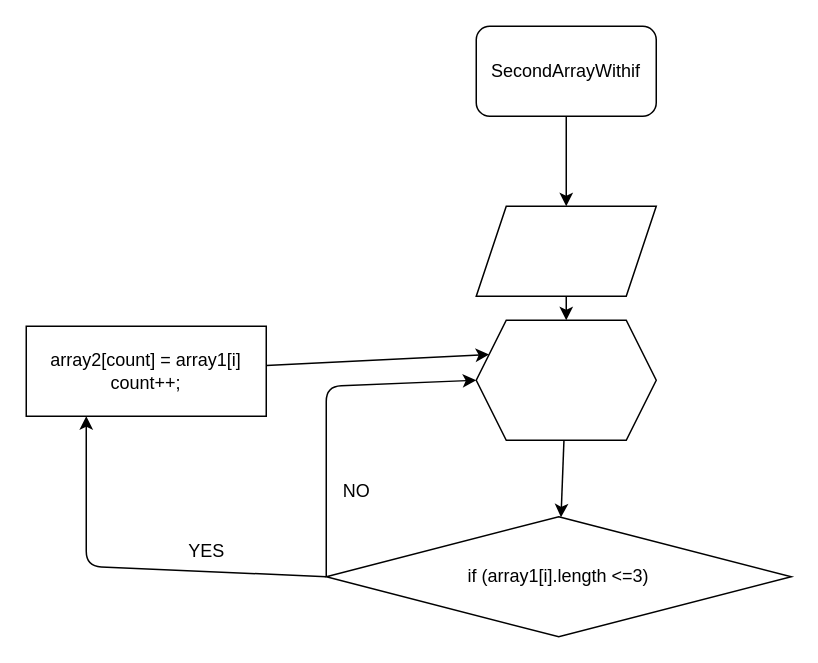
This 818x663 diagram has some shape labels left out. The box of each missing label's shape, as (x1, y1, x2, y2) in pixels:
for (int i =0; i<array1.length; i++): (475, 319, 656, 440)
Strig Array 1 Strig Array 2 int count = 0: (475, 205, 656, 296)
